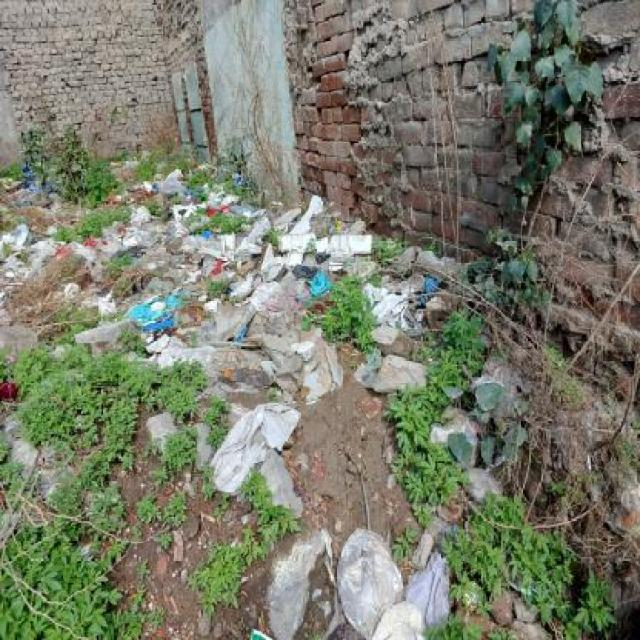garbage: (2, 156, 640, 640)
